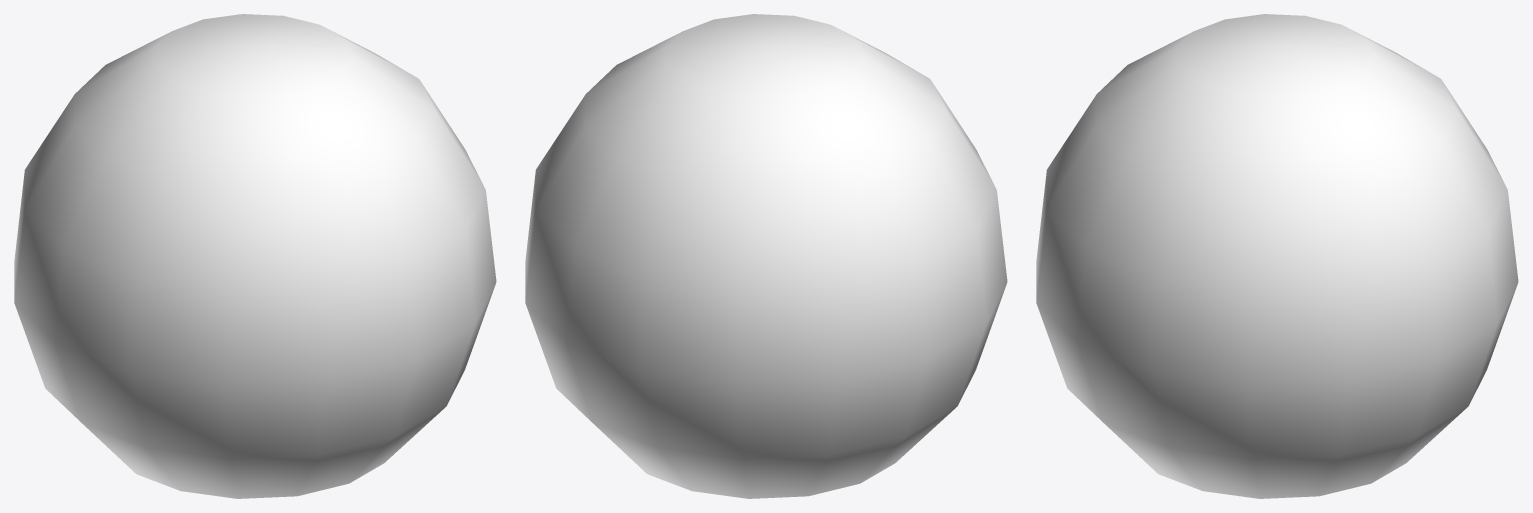
The model's file is Item.obj.
3 renders of one model, left to right at view 1: azimuth 30°, elevation 25°; view 2: azimuth 150°, elevation 25°; view 3: azimuth 270°, elevation 25°, orthographic.
Parts seen in each view (by area): view 1: Sphere001; view 2: Sphere001; view 3: Sphere001.
Part boxes in pixels (box(x1,y1,x2,y2)): Sphere001: box(14, 14, 496, 498); Sphere001: box(525, 14, 1007, 498); Sphere001: box(1036, 14, 1518, 498).
Size of the model in its own units: 48.2 by 46.68 by 47.94.
Materials: 2 (2 with a texture image).
